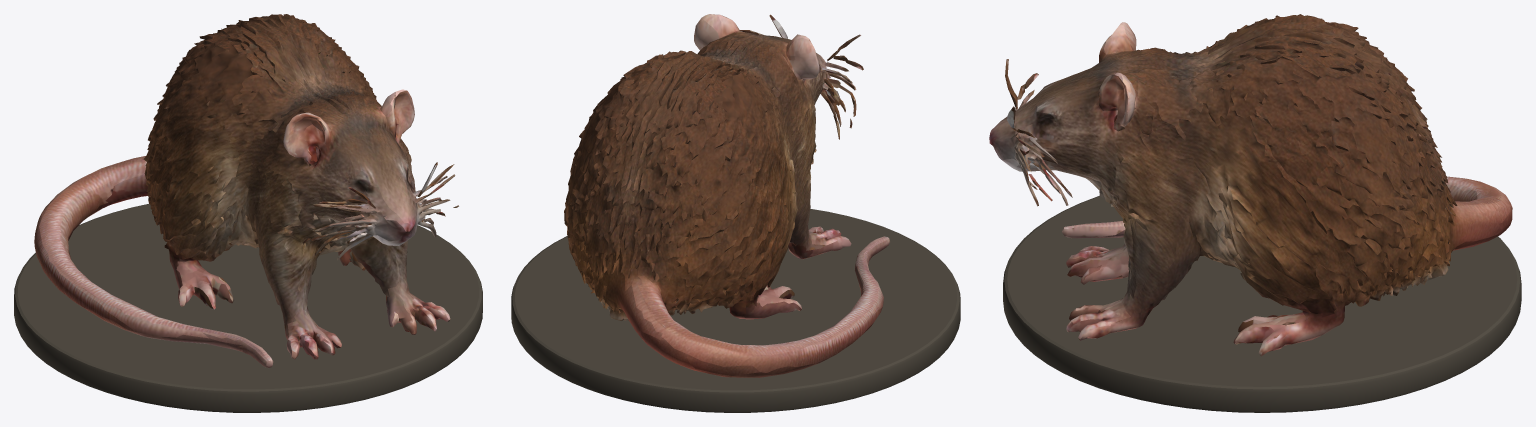
File: giant-rat.glb
The picture shows the model from 3 angles, left to right: view 1: azimuth 30°, elevation 25°; view 2: azimuth 150°, elevation 25°; view 3: azimuth 270°, elevation 25°; orthographic projection. The views are drawn at different scales.
Parts seen in each view (by area): view 1: giant-rat_body, giant-rat_round_base; view 2: giant-rat_body, giant-rat_round_base; view 3: giant-rat_body, giant-rat_round_base.
Boxes of the visible parts, x1,y1,x2,y2 form: giant-rat_body: [34, 14, 458, 368]; giant-rat_round_base: [14, 204, 482, 412]; giant-rat_body: [564, 14, 889, 377]; giant-rat_round_base: [511, 209, 960, 412]; giant-rat_body: [989, 14, 1512, 356]; giant-rat_round_base: [1003, 195, 1521, 412].
Bounding box in the file's own units: 1 × 0.639 × 1.03.
Materials: 2 (1 with a texture image).
